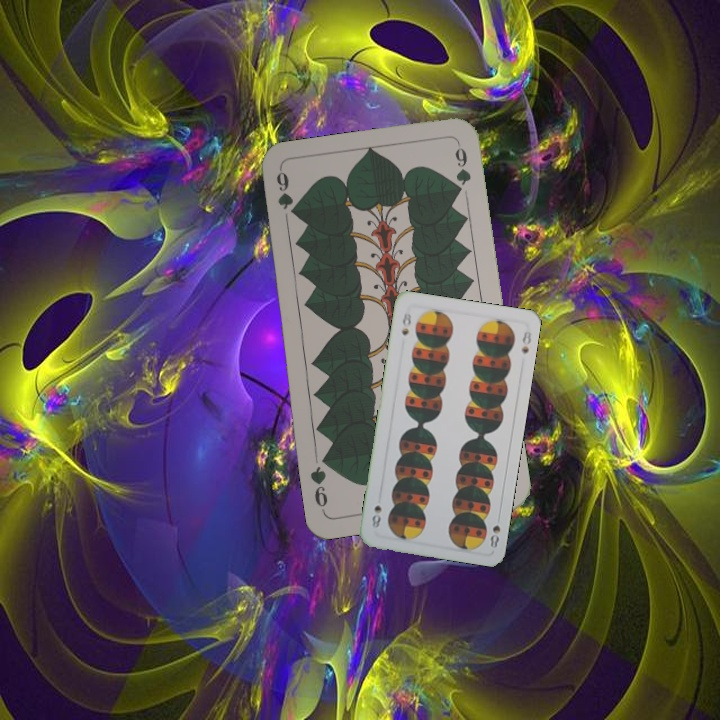G9: (272, 167, 294, 212)
S8: (486, 510, 503, 551), (397, 307, 414, 338)
